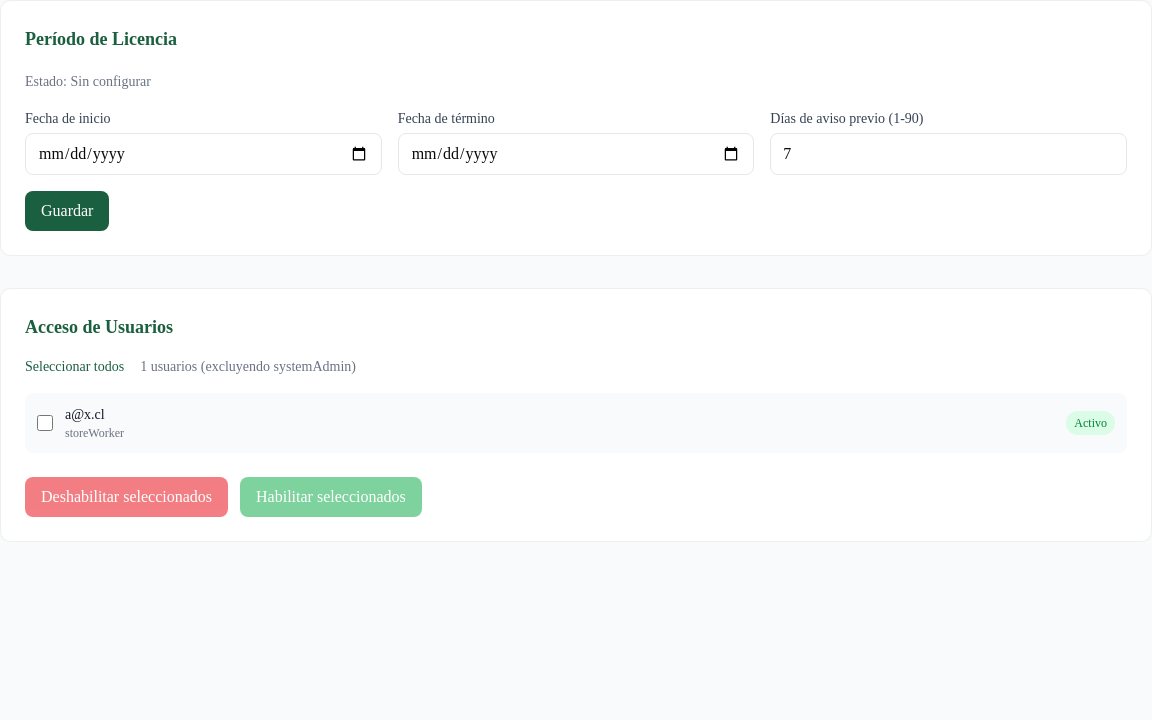
Test: LicenciaCard — deshabilitar usuarios › C-76: REGRESIÓN — error del endpoint se muestra en pantalla (role=alert)
Click the checkbox at (45, 423), box [37,415,53,431]
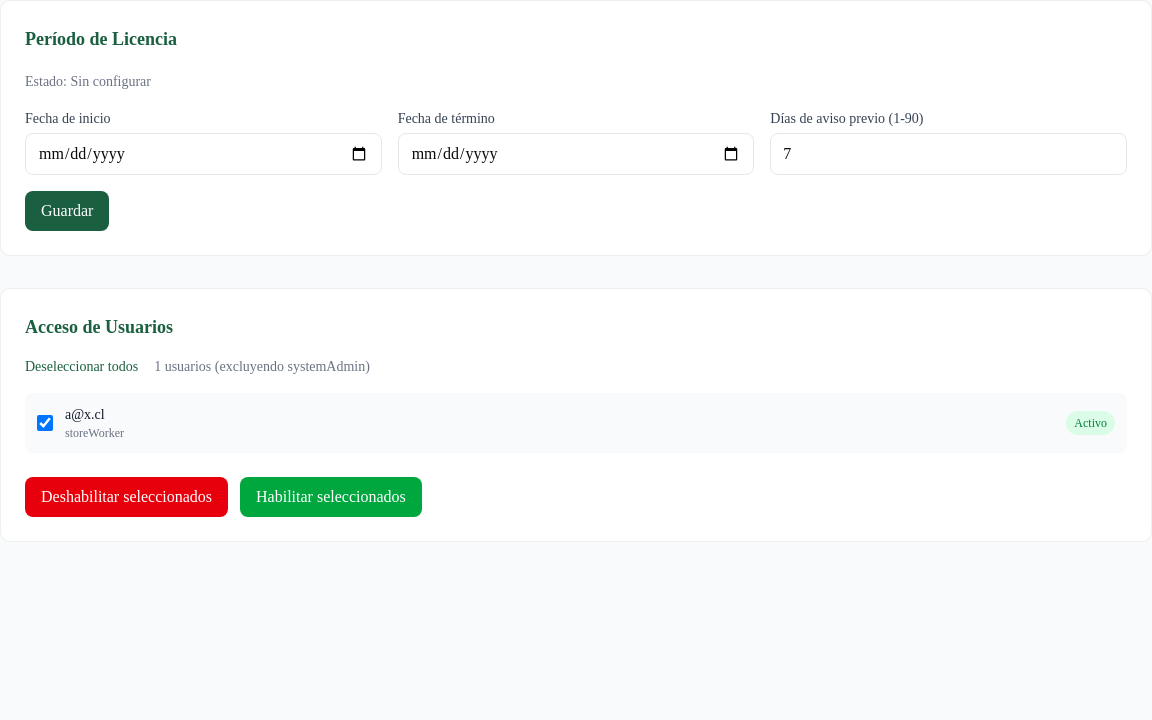
Click the button "Deshabilitar seleccionados" at (126, 497), box [25,477,228,517]
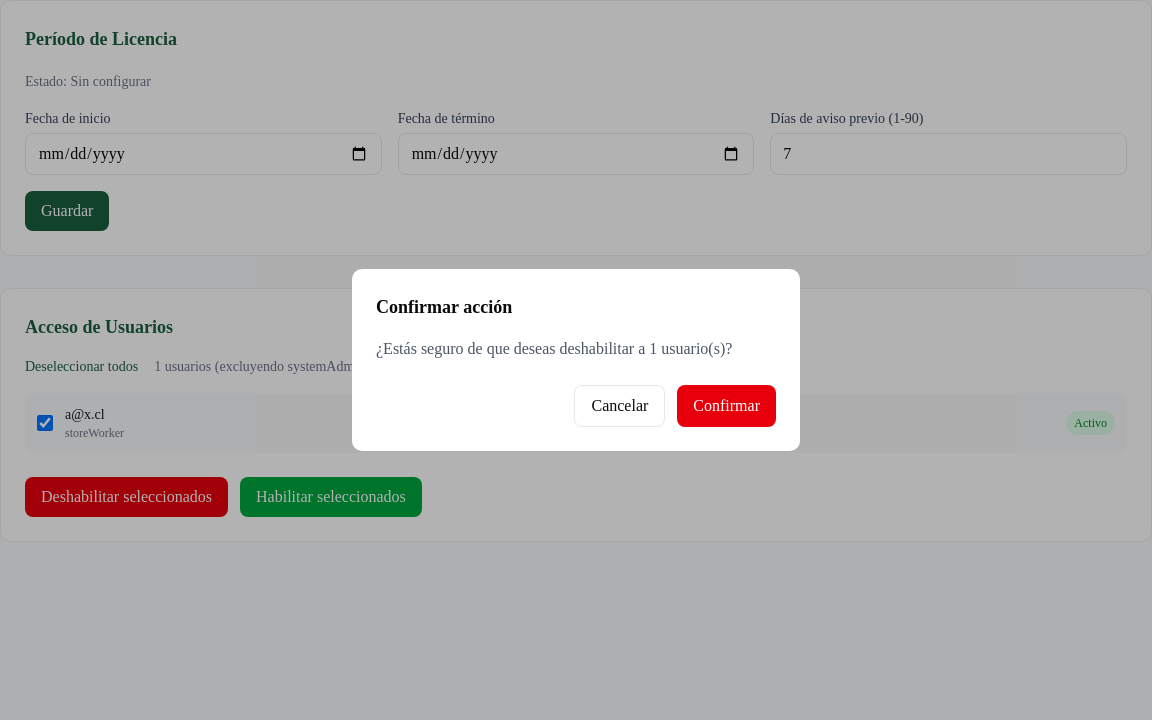
Click the button "Confirmar" at (727, 406), box [677,385,776,427]
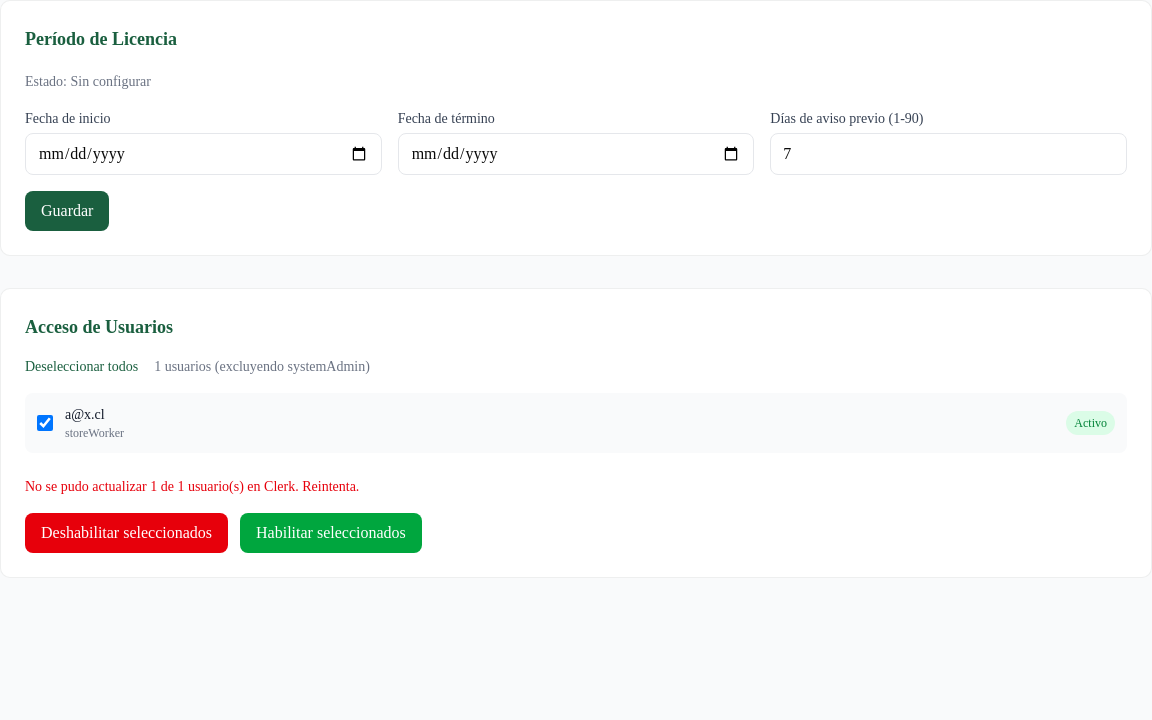
Result: the message shows "No se pudo actualizar 1 de 1 usuario(s) en Clerk" at [25,479,359,494]
